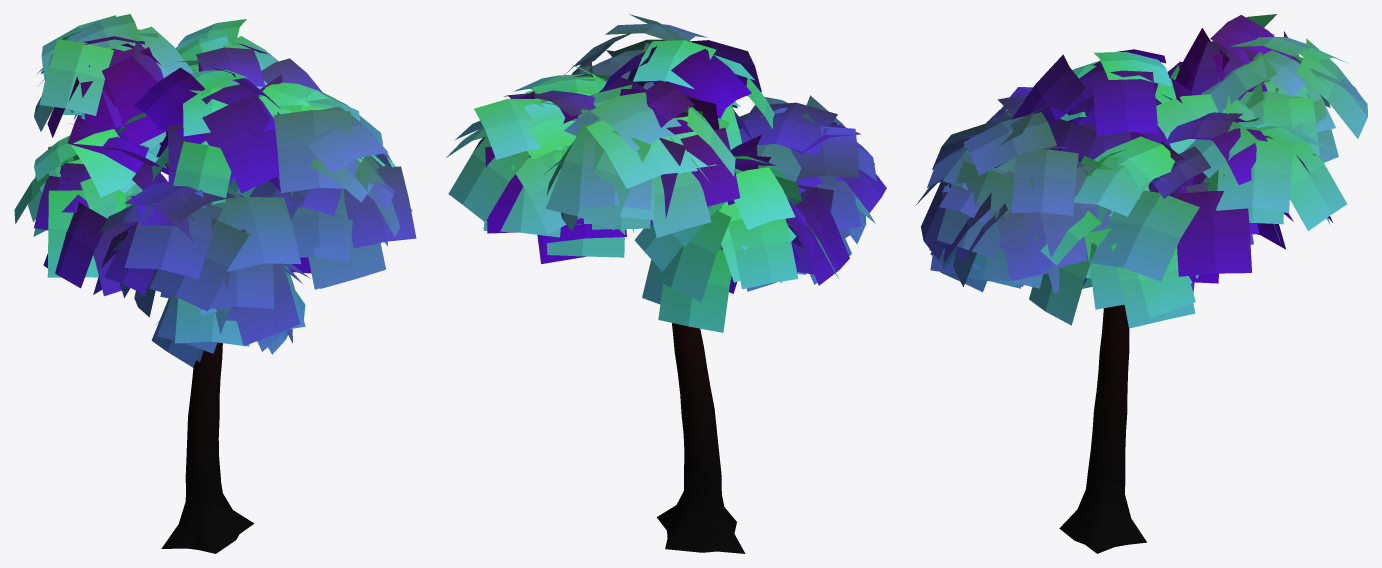
The model's file is Jungle2.fbx.
3 views of the same model, side by side, from view 1: azimuth 30°, elevation 25°; view 2: azimuth 150°, elevation 25°; view 3: azimuth 270°, elevation 25° (orthographic). The views are drawn at different scales.
Visible parts, largest first — view 1: Jungle2; view 2: Jungle2; view 3: Jungle2.
Part boxes in pixels (bbox=[...]): Jungle2: bbox=[14, 14, 416, 553]; Jungle2: bbox=[446, 14, 886, 553]; Jungle2: bbox=[915, 14, 1367, 553].
Size of the model in its own units: 14.84 by 19.26 by 15.83.
